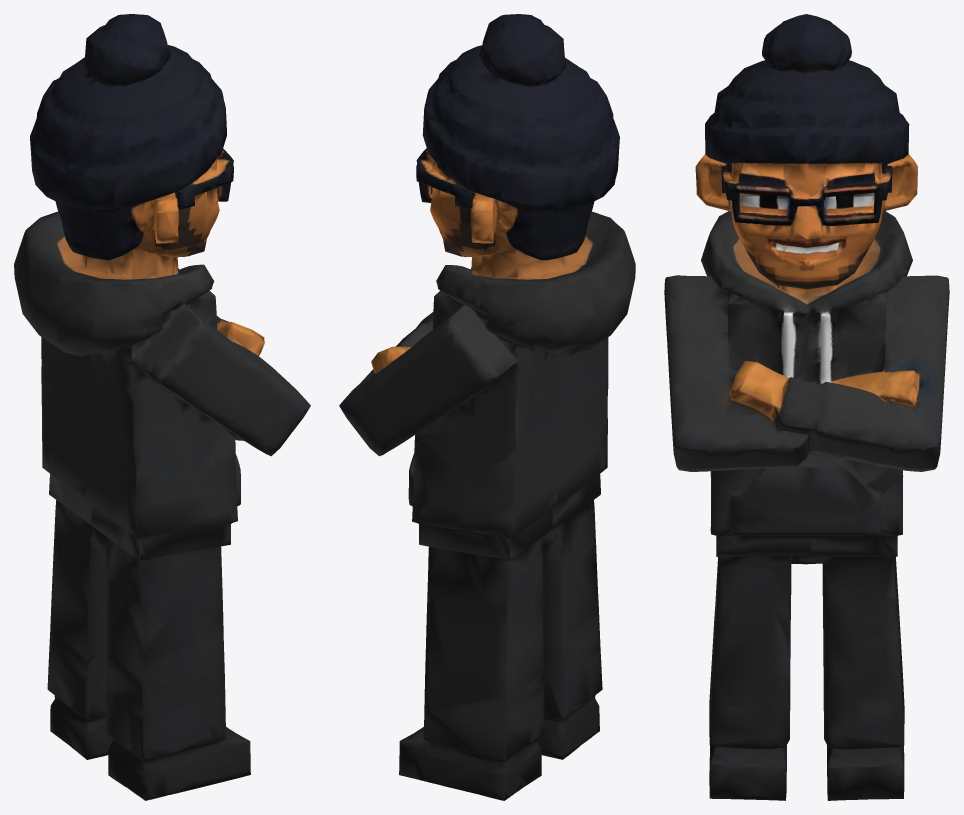
Rendered from anga.glb.
The picture shows the model from 3 angles, left to right: view 1: azimuth 30°, elevation 25°; view 2: azimuth 150°, elevation 25°; view 3: azimuth 270°, elevation 25°; orthographic projection.
Parts seen in each view (by area): view 1: tripo_node_736569d5-e135-4e01-a4fb-f7d8b1a90add; view 2: tripo_node_736569d5-e135-4e01-a4fb-f7d8b1a90add; view 3: tripo_node_736569d5-e135-4e01-a4fb-f7d8b1a90add.
Part boxes in pixels (x1,y1,x2,y2): tripo_node_736569d5-e135-4e01-a4fb-f7d8b1a90add: [14, 14, 310, 800]; tripo_node_736569d5-e135-4e01-a4fb-f7d8b1a90add: [339, 14, 635, 800]; tripo_node_736569d5-e135-4e01-a4fb-f7d8b1a90add: [664, 14, 949, 800].
Size of the model in its own units: 0.3057 by 1 by 0.3439.
Materials: 1 (1 with a texture image).
